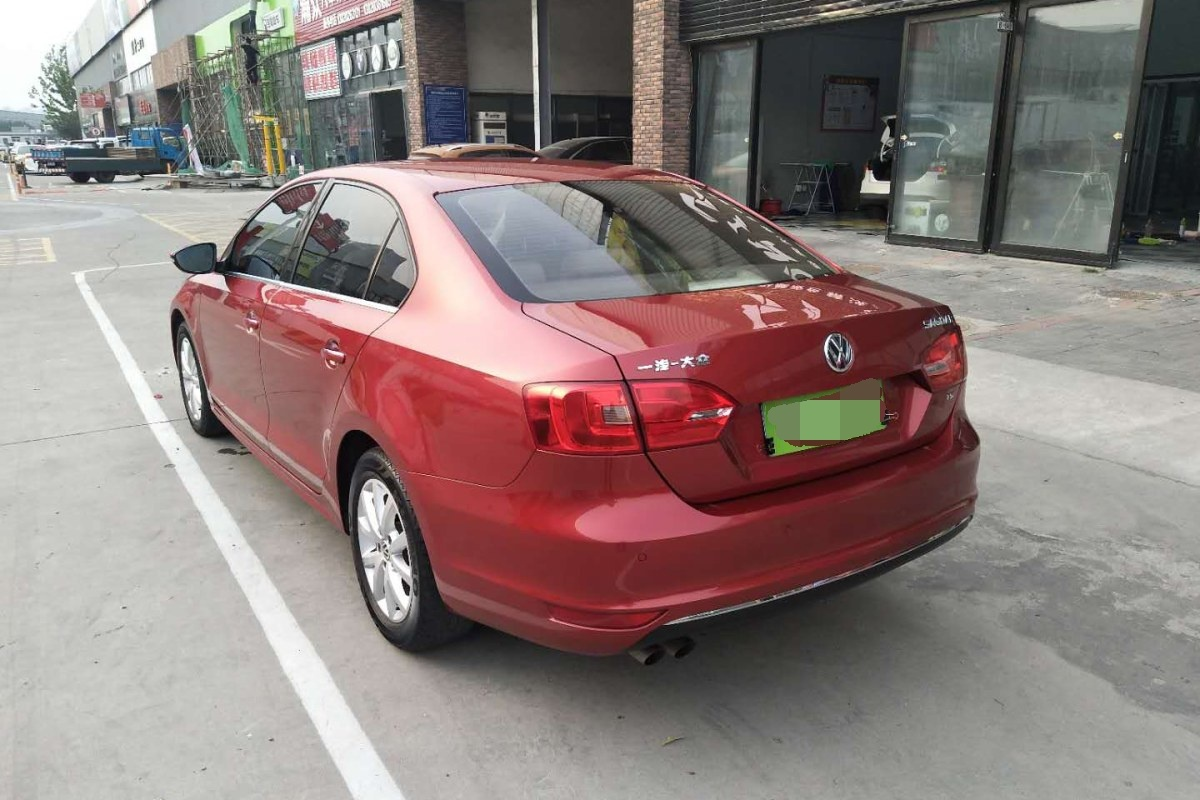family sedan: (153, 135, 953, 674)
